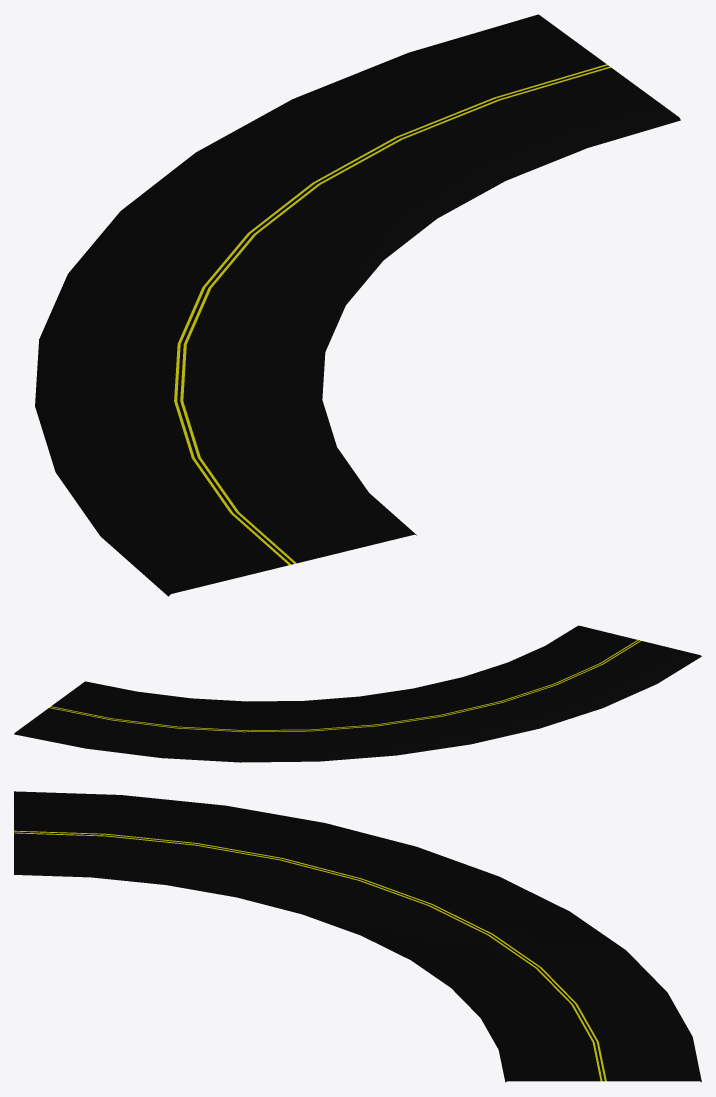
The model's file is Road-Double_LongR.fbx.
3 views of the same model, one above another, from view 1: azimuth 30°, elevation 25°; view 2: azimuth 150°, elevation 25°; view 3: azimuth 270°, elevation 25° (orthographic). The views are drawn at different scales.
Parts seen in each view (by area): view 1: Road-Double_LongR; view 2: Road-Double_LongR; view 3: Road-Double_LongR.
Part boxes in pixels (x1,y1,x2,y2): Road-Double_LongR: [35, 14, 680, 596]; Road-Double_LongR: [14, 625, 701, 762]; Road-Double_LongR: [14, 791, 701, 1082].
Bounding box in the file's own units: 4900 × 10 × 4900.
